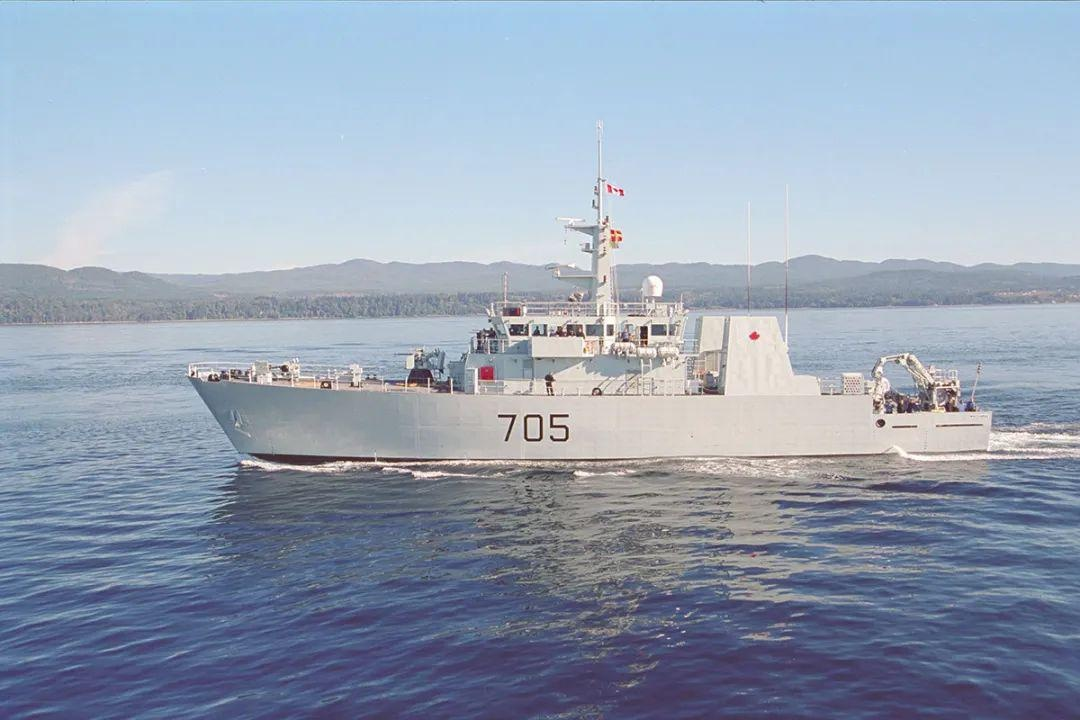warship: (197, 116, 996, 469)
